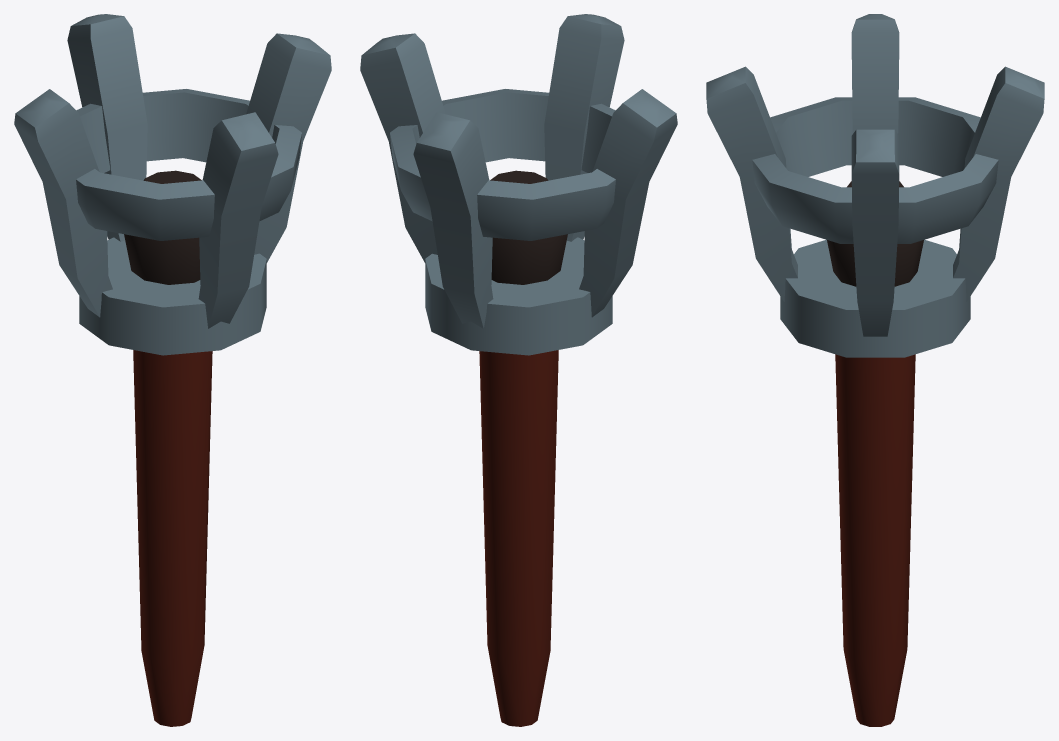
File: torch.obj
3 renders of one model, left to right at view 1: azimuth 30°, elevation 25°; view 2: azimuth 150°, elevation 25°; view 3: azimuth 270°, elevation 25°, orthographic.
Visible parts, largest first — view 1: torch_Cylinder.008; view 2: torch_Cylinder.008; view 3: torch_Cylinder.008.
Part boxes in pixels (bbox=[...]): torch_Cylinder.008: bbox=[14, 14, 331, 726]; torch_Cylinder.008: bbox=[360, 14, 677, 726]; torch_Cylinder.008: bbox=[706, 14, 1044, 726].
Size of the model in its own units: 0.6436 by 1.36 by 0.6436.
